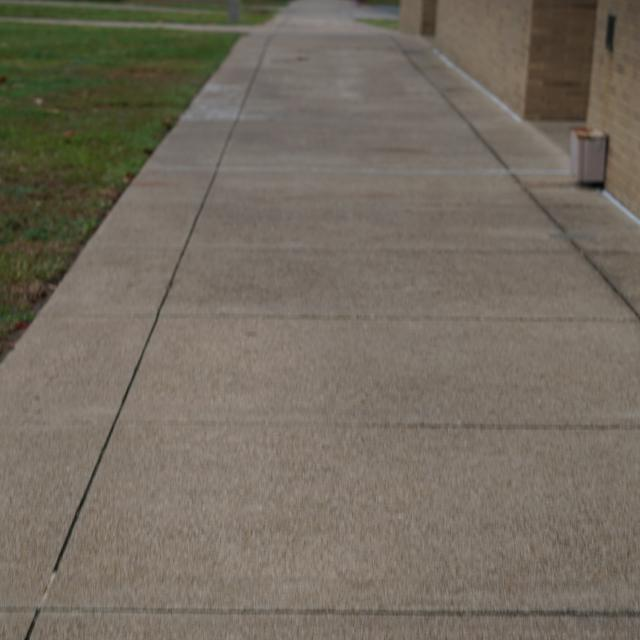Obstacle: (570, 127, 609, 186)
Sidewalk: (0, 0, 640, 638)
